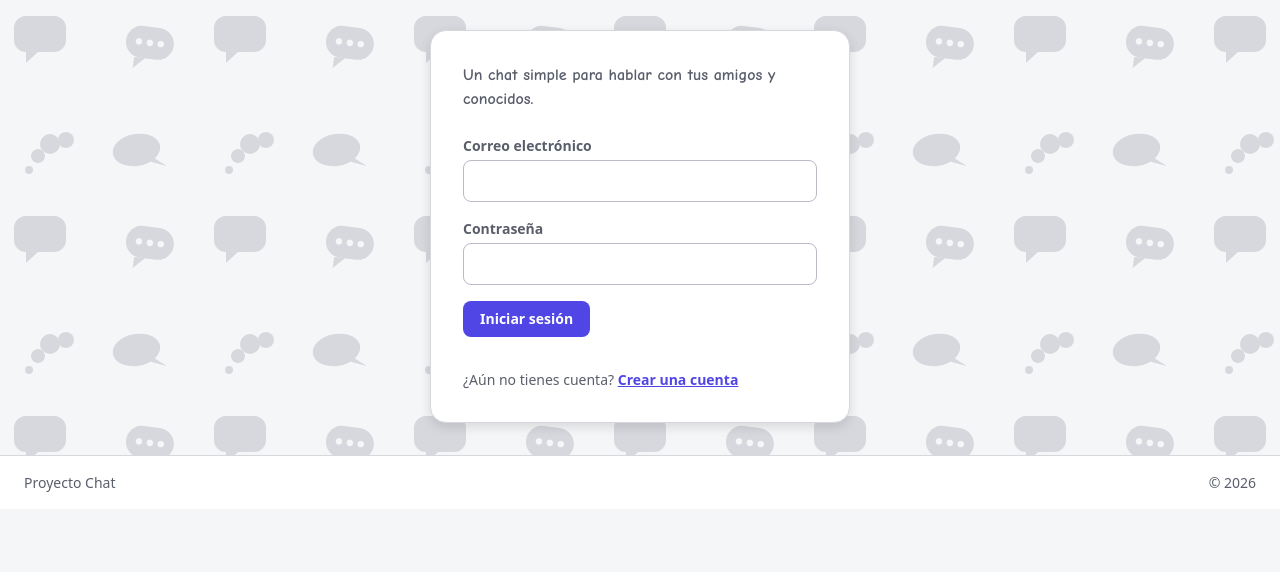
Scenario: LoginPage › con credenciales inválidas, no navega y deja que LoginForm muestre el aviso
In the field labelled "Correo electrónico": coordinates (640, 181) [463,160,817,202], type "mateo@example.com"
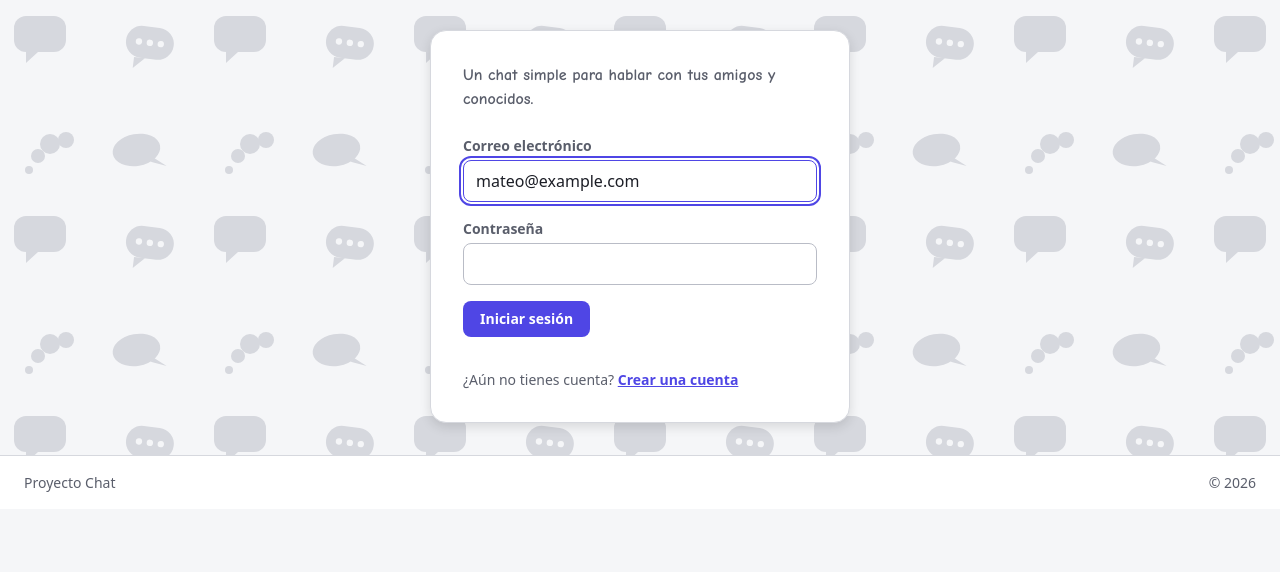
In the password field labelled "Contraseña": coordinates (640, 264) [463,243,817,285], type "Passw0rd!"
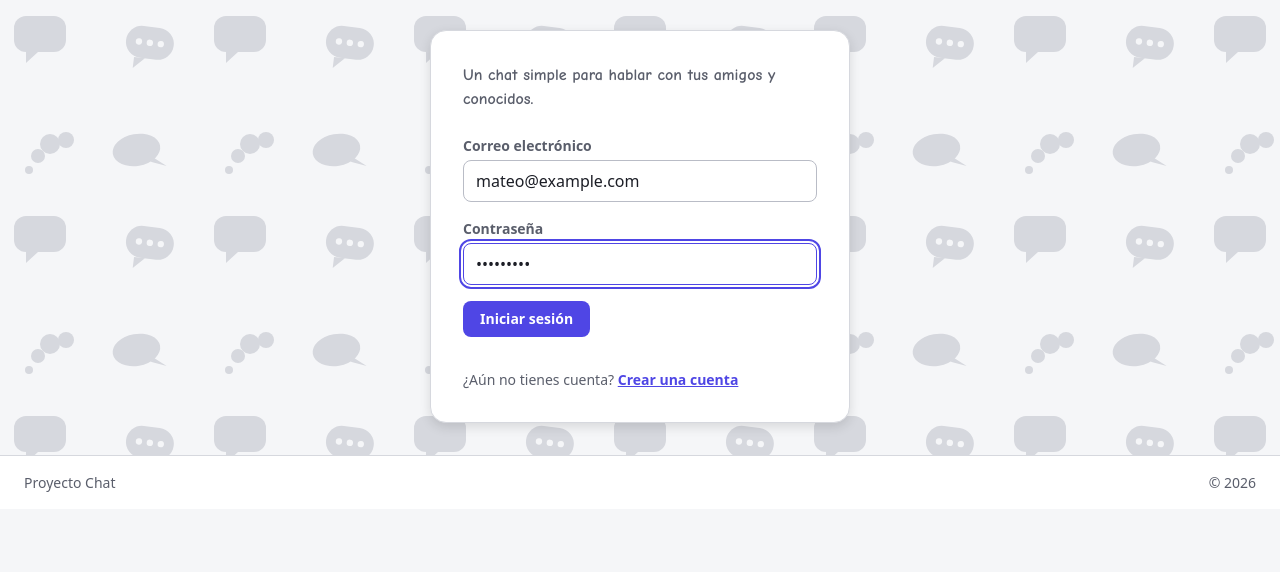
Click the button "Iniciar sesión": coordinates (527, 319) [463,301,590,336]
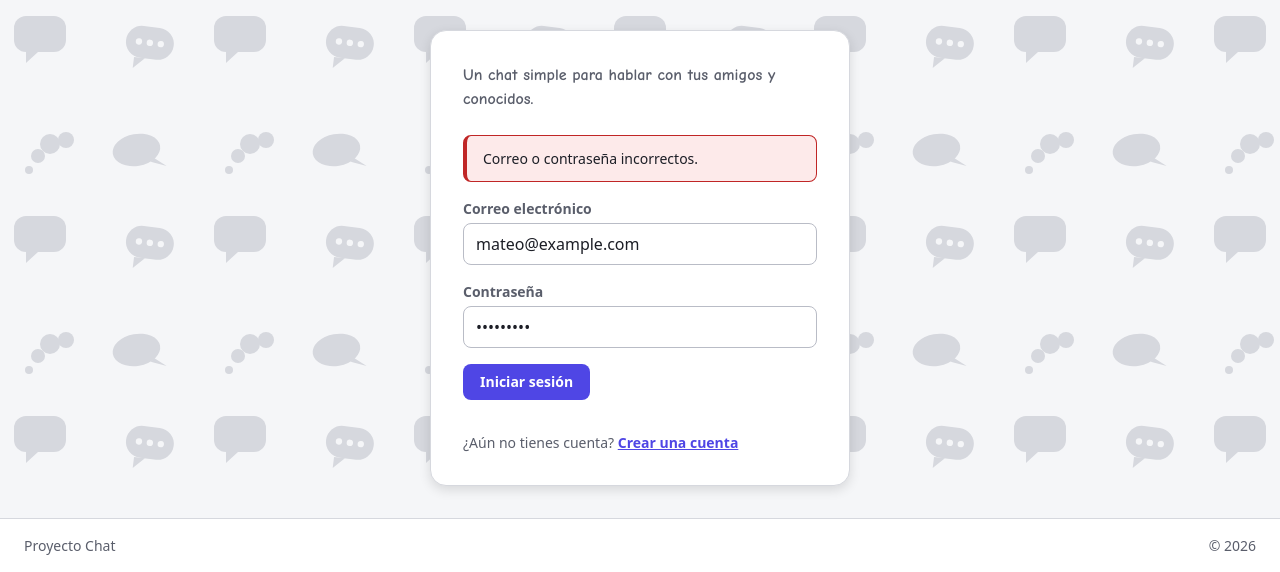
Expected: the text "Correo o contraseña incorrectos." is shown, [463,135,817,182]
